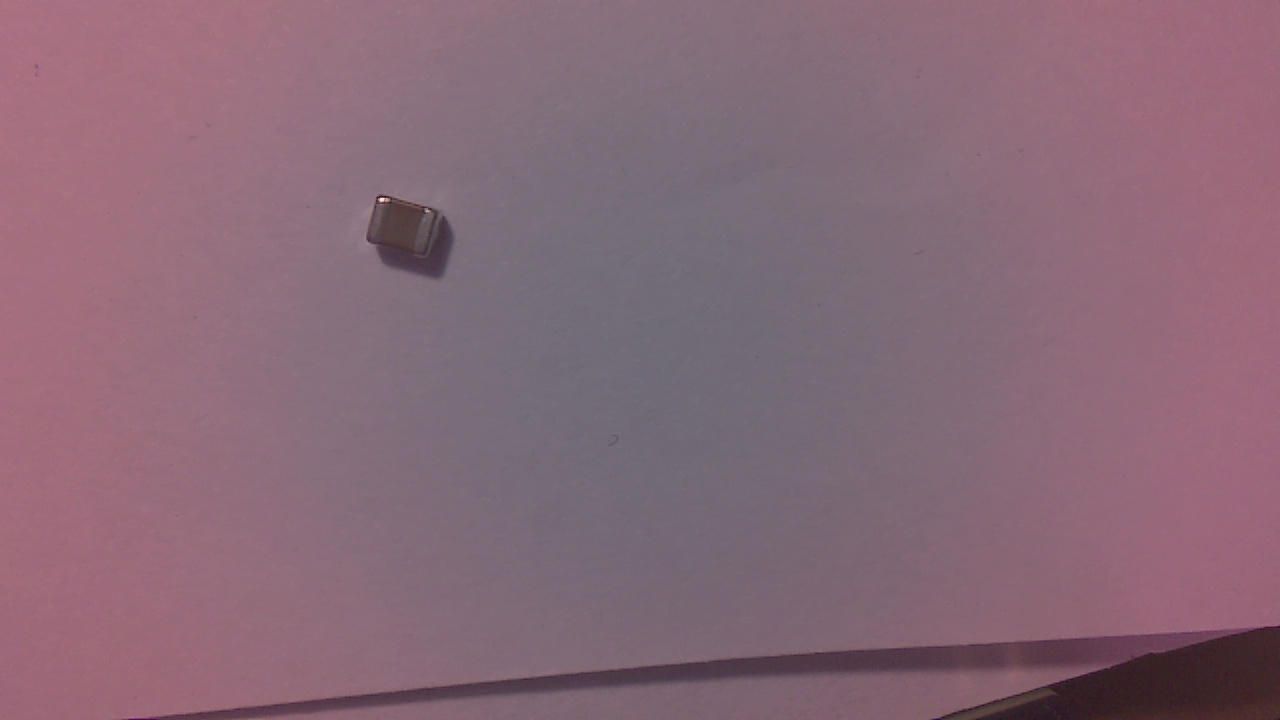Condensator: (370, 196, 454, 267)
